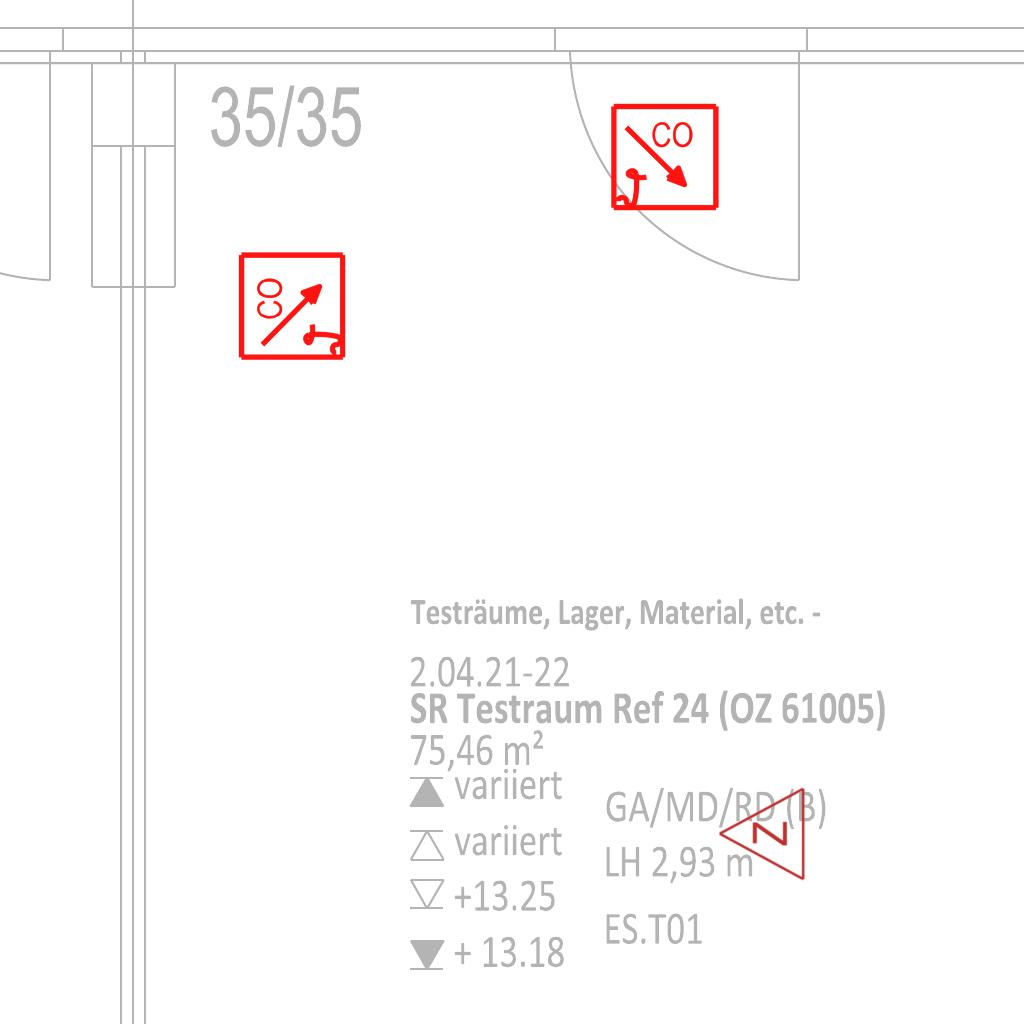ROA_Rauchmelder_optisch_mit_Signalgeber_(Sockelsirene): (609, 102, 722, 215), (237, 249, 350, 362)
Zimmersignalleuchte: (712, 786, 812, 884)
